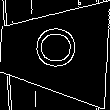O_W: (30, 29, 79, 75)
